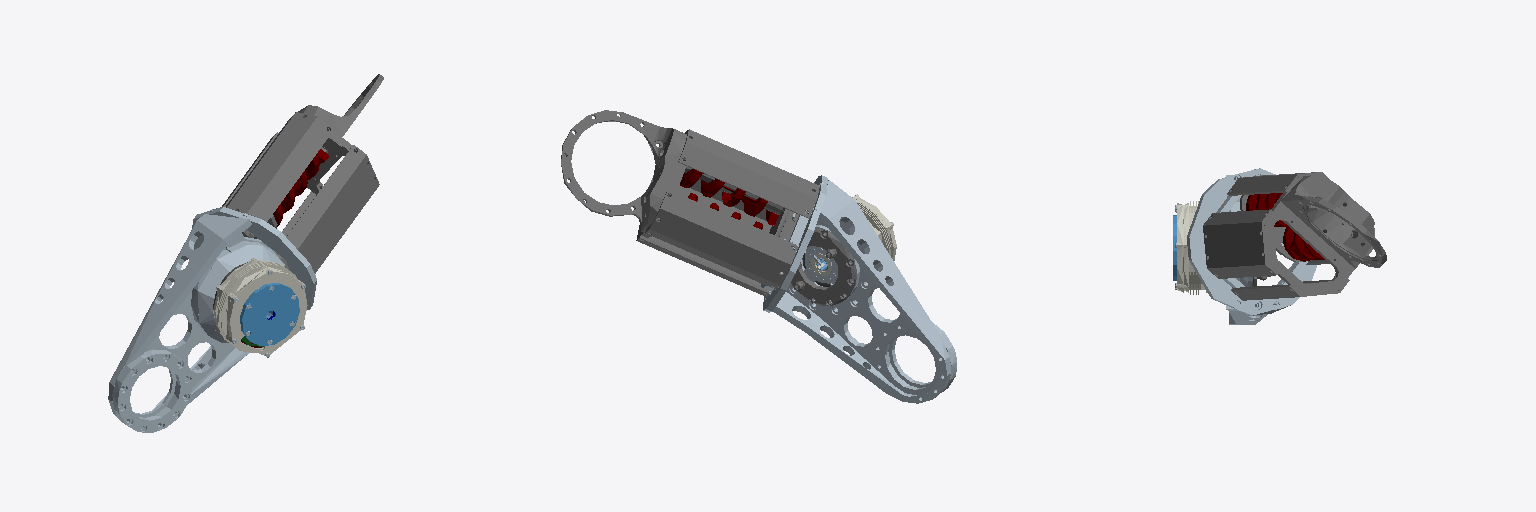
3 views of the same model, side by side, from view 1: azimuth 30°, elevation 25°; view 2: azimuth 150°, elevation 25°; view 3: azimuth 270°, elevation 25° (orthographic).
Size of the model in its own units: 0.3942 by 0.2916 by 0.2243.
1 materials, 1 textured.